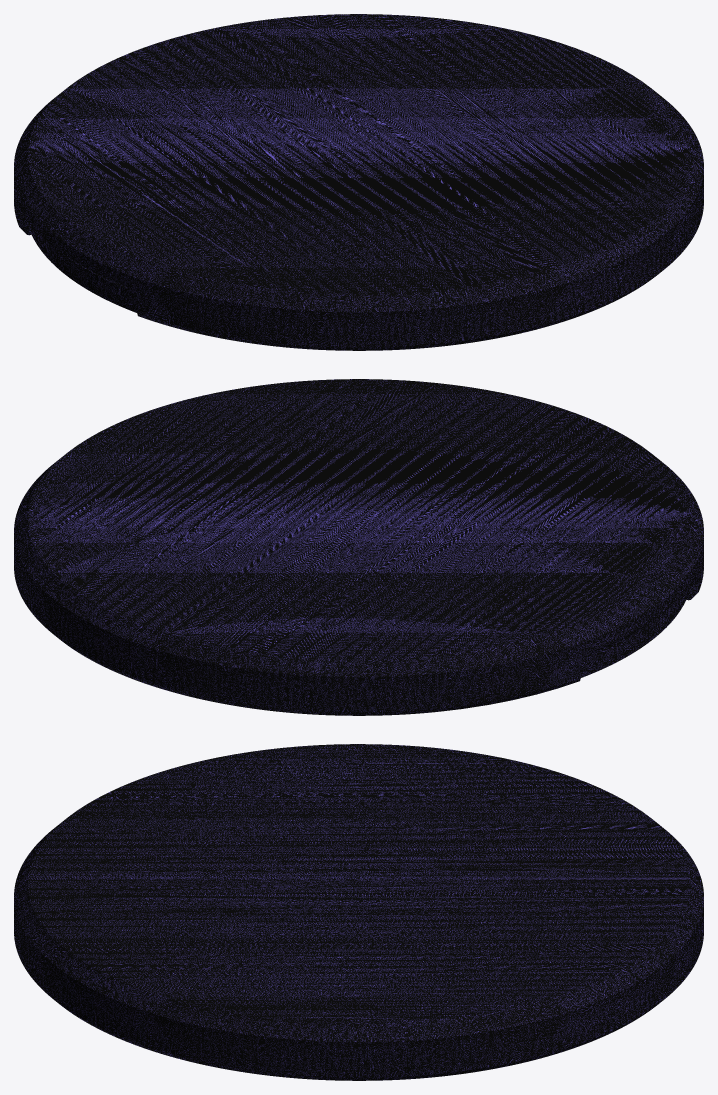
File: original-3.obj
The picture shows the model from 3 angles, top to bottom: view 1: azimuth 30°, elevation 25°; view 2: azimuth 150°, elevation 25°; view 3: azimuth 270°, elevation 25°; orthographic projection.
Parts seen in each view (by area): view 1: Obj_000003_1/Obj_000003/mesh3/mesh3-geometry#mesh3-geometry; view 2: Obj_000003_1/Obj_000003/mesh3/mesh3-geometry#mesh3-geometry; view 3: Obj_000003_1/Obj_000003/mesh3/mesh3-geometry#mesh3-geometry.
Boxes of the visible parts, x1,y1,x2,y2 form: Obj_000003_1/Obj_000003/mesh3/mesh3-geometry#mesh3-geometry: [14, 14, 703, 350]; Obj_000003_1/Obj_000003/mesh3/mesh3-geometry#mesh3-geometry: [14, 379, 703, 715]; Obj_000003_1/Obj_000003/mesh3/mesh3-geometry#mesh3-geometry: [14, 744, 703, 1080].
Size of the model in its own units: 1.06 by 0.0912 by 1.06.
